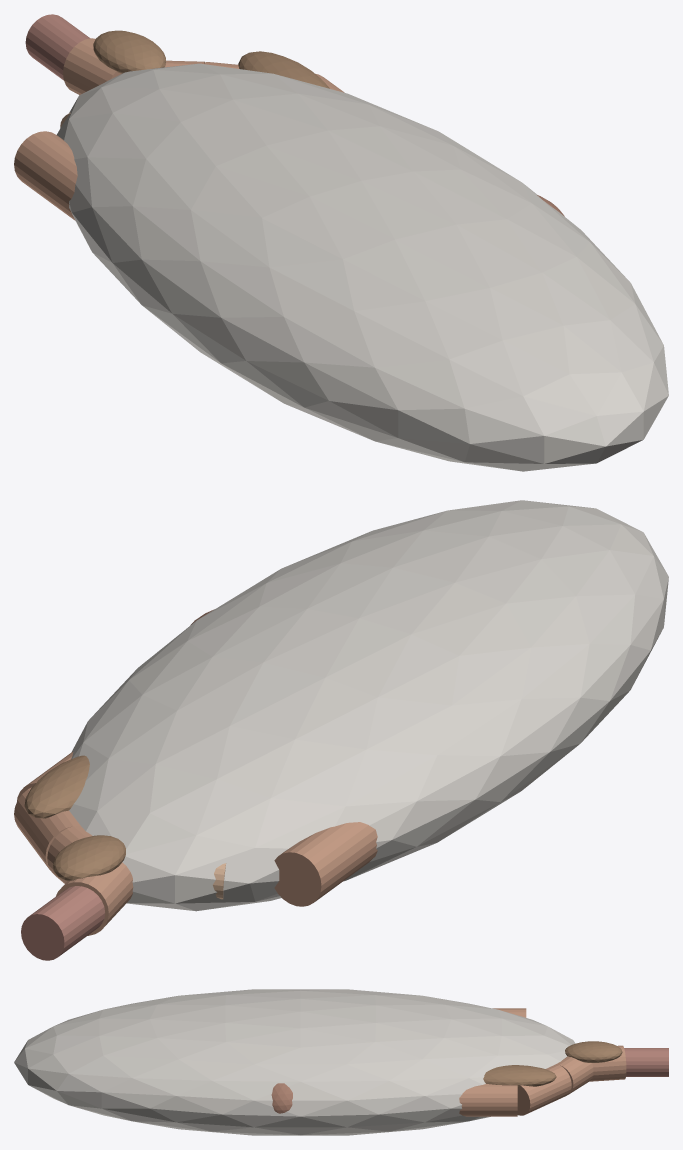
Rendered from digestive_educational.glb.
3 renders of one model, top to bottom at view 1: azimuth 30°, elevation 25°; view 2: azimuth 150°, elevation 25°; view 3: azimuth 270°, elevation 25°, orthographic. The views are drawn at different scales.
Visible parts, largest first — view 1: Siluet Tubuh, Usus Besar_1, Fecal Impaction, Rektum, Usus Besar_10, Feses Keras Kolon; view 2: Siluet Tubuh, Usus Besar_1, Rektum, Feses Keras Kolon, Fecal Impaction, Usus Besar_10, Usus Besar_8, Usus Besar_9; view 3: Siluet Tubuh, Usus Besar_7, Usus Besar_8, Feses Keras Kolon, Rektum, Fecal Impaction, Usus Besar_10, Usus Besar_9, Hati.
Boxes of the visible parts, <box> form: Siluet Tubuh: <box>57,63,668,471</box>; Usus Besar_1: <box>14,131,77,220</box>; Fecal Impaction: <box>93,30,165,73</box>; Rektum: <box>25,14,90,80</box>; Usus Besar_10: <box>63,38,121,94</box>; Feses Keras Kolon: <box>238,51,329,88</box>; Siluet Tubuh: <box>69,500,668,911</box>; Usus Besar_1: <box>274,822,377,906</box>; Rektum: <box>21,886,104,960</box>; Feses Keras Kolon: <box>24,755,89,818</box>; Fecal Impaction: <box>53,835,125,881</box>; Usus Besar_10: <box>56,862,133,935</box>; Usus Besar_8: <box>14,787,80,870</box>; Usus Besar_9: <box>47,826,92,883</box>; Siluet Tubuh: <box>14,989,575,1135</box>; Usus Besar_7: <box>459,1084,517,1116</box>; Usus Besar_8: <box>517,1064,571,1115</box>; Feses Keras Kolon: <box>483,1065,556,1087</box>; Rektum: <box>624,1048,668,1076</box>; Fecal Impaction: <box>565,1041,622,1062</box>; Usus Besar_10: <box>589,1045,626,1081</box>; Usus Besar_9: <box>556,1056,593,1094</box>; Hati: <box>271,1083,292,1113</box>.
Size of the model in its own units: 2.1 by 0.92 by 5.37.
